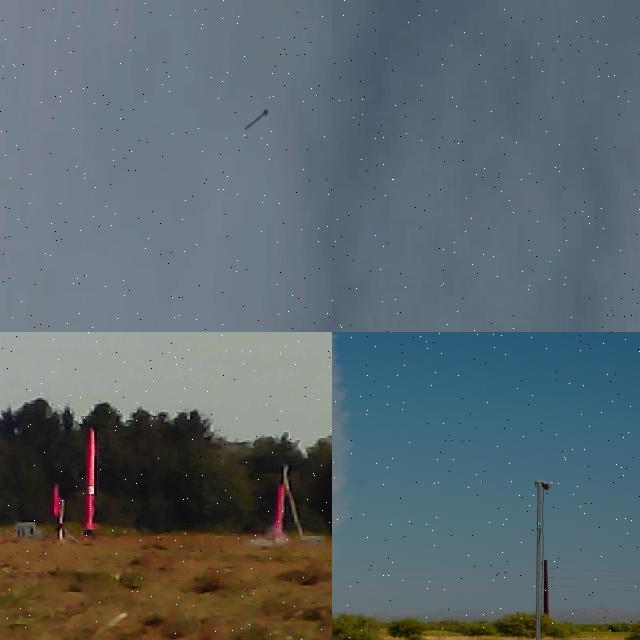Rocket: (84, 427, 96, 531), (275, 480, 284, 538), (245, 108, 268, 130), (52, 481, 63, 516)
